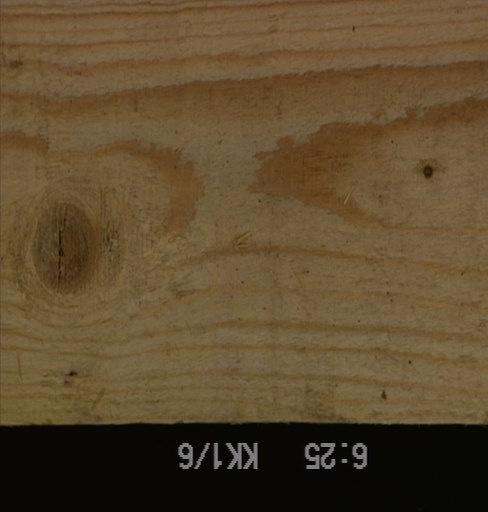small_knot: (417, 162, 437, 181)
sound_knot: (22, 194, 108, 299)
